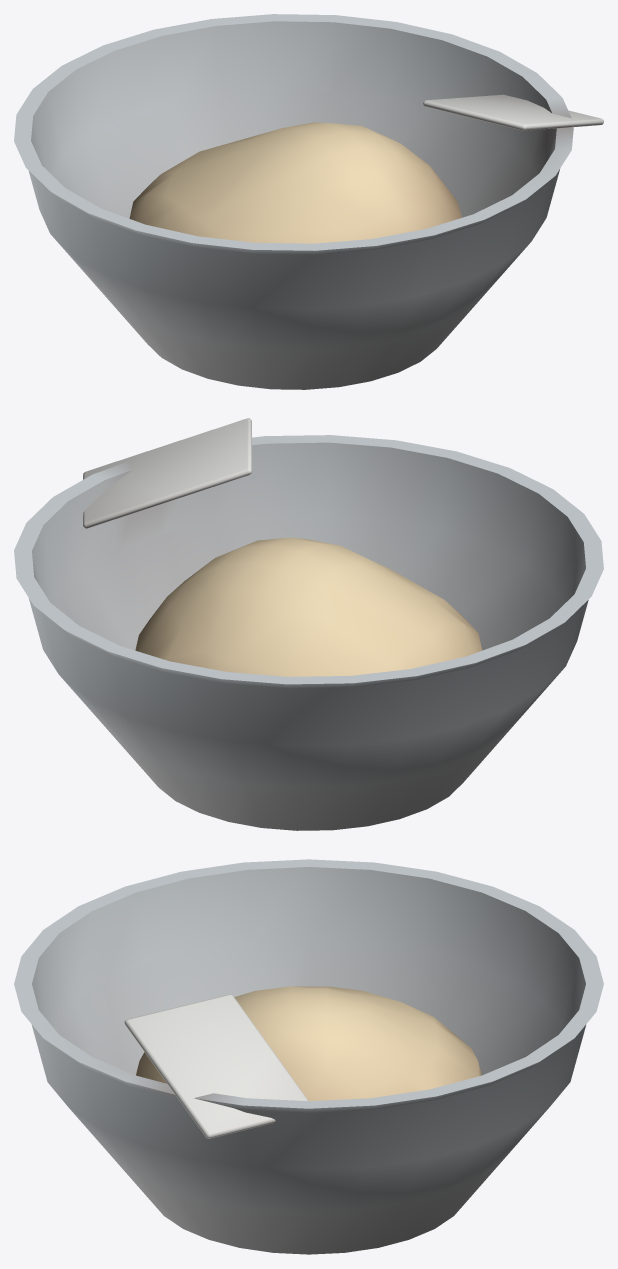
File: fp-bowl.gltf
3 renders of one model, top to bottom at view 1: azimuth 30°, elevation 25°; view 2: azimuth 150°, elevation 25°; view 3: azimuth 270°, elevation 25°, orthographic. The views are drawn at different scales.
Visible parts, largest first — view 1: model; view 2: model; view 3: model.
Boxes of the visible parts, <box> form: model: <box>14,14,603,389</box>; model: <box>14,418,603,830</box>; model: <box>14,859,603,1254</box>.
Bounding box in the file's own units: 0.3426 × 0.1484 × 0.33.
